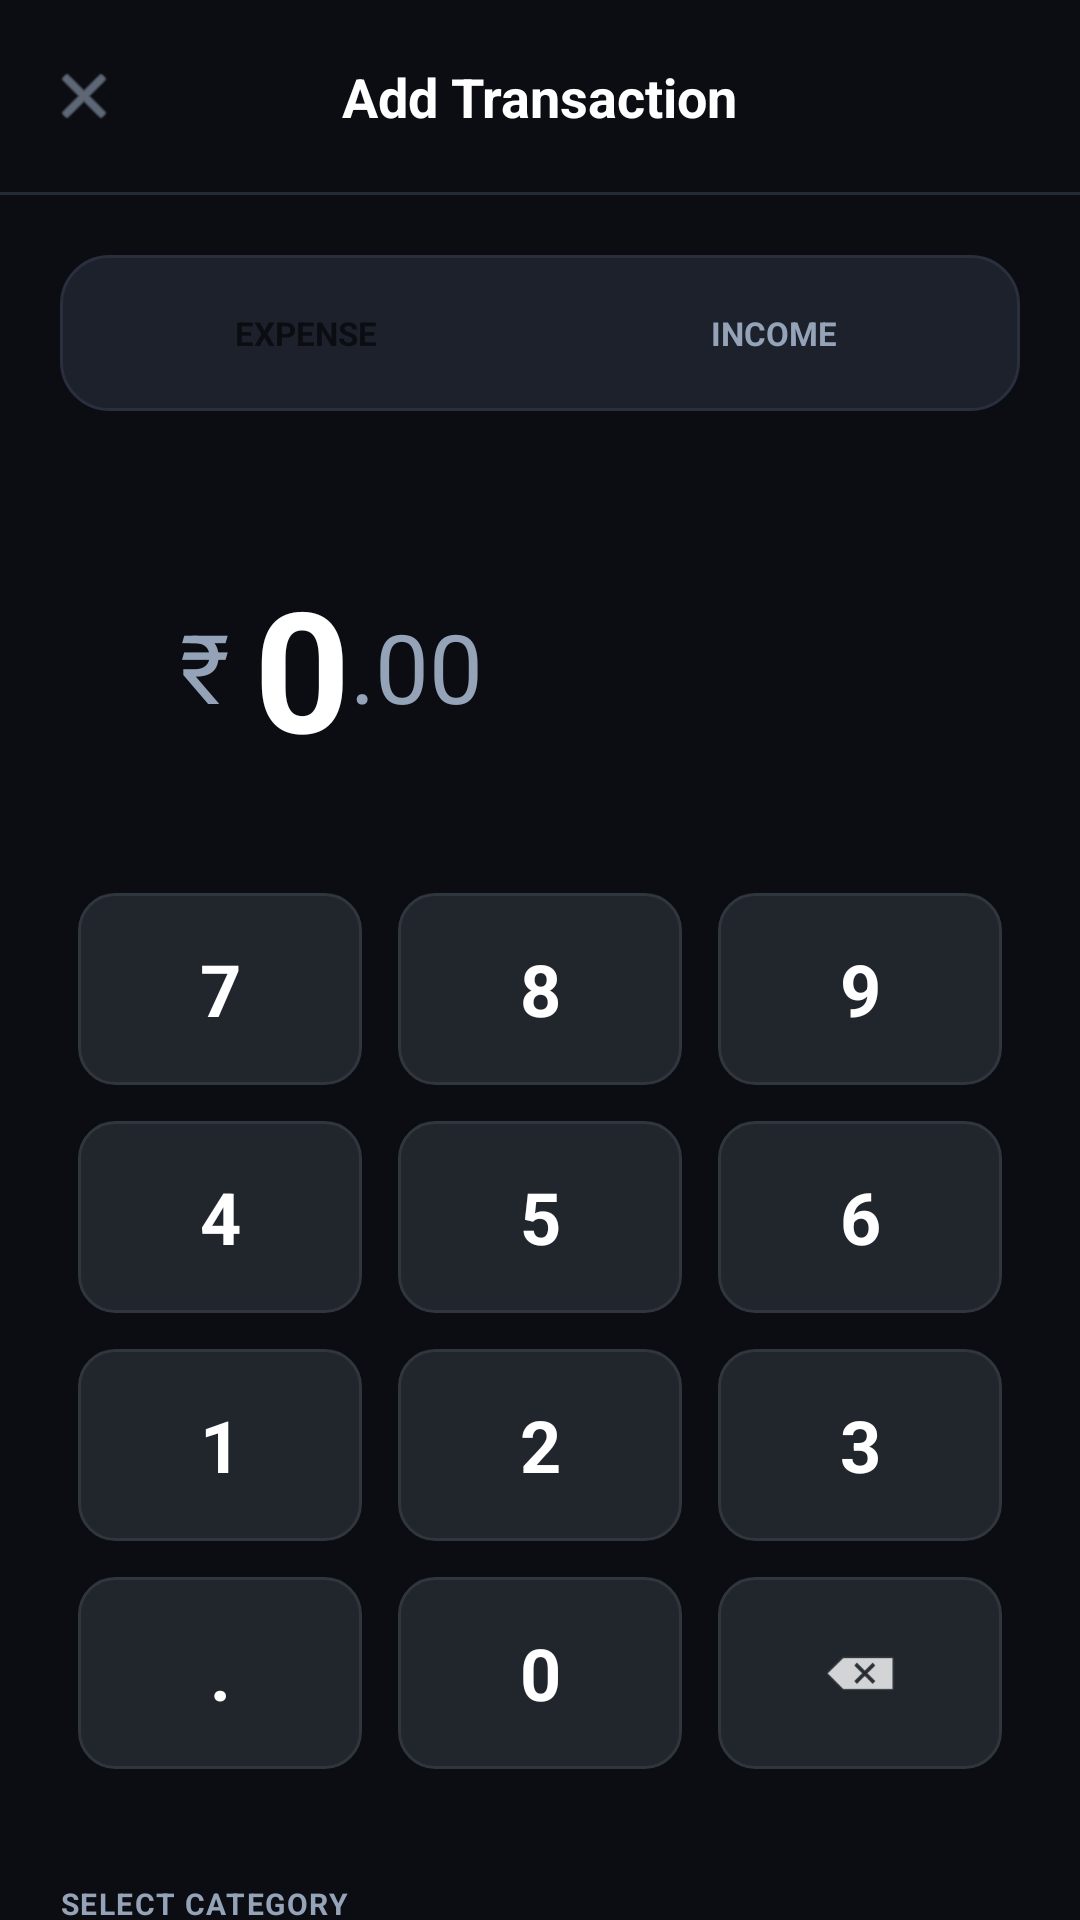

Icon click points for this 1080 x 1920 phone screenshot, format [x,y]:
close clear cancel: [84,96]
delete: [860,1674]
